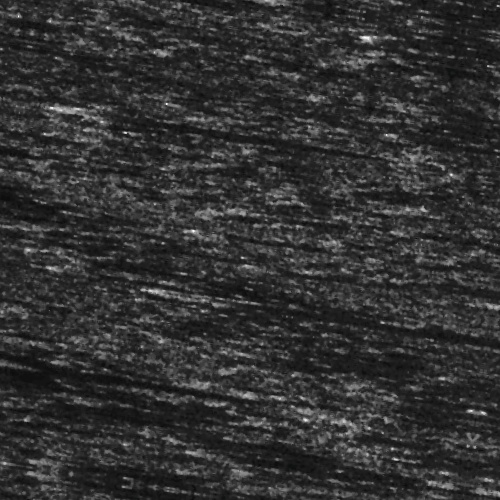object: (212, 449, 285, 460), (148, 299, 241, 306), (0, 393, 52, 400), (473, 367, 500, 378), (33, 134, 74, 141), (336, 12, 367, 19), (385, 294, 426, 299), (194, 232, 205, 241)
shadow: (0, 411, 207, 422), (194, 299, 500, 306), (249, 449, 433, 460), (54, 134, 301, 141), (16, 393, 247, 400), (200, 232, 326, 241), (352, 12, 500, 19), (406, 294, 500, 299), (0, 186, 47, 191)
